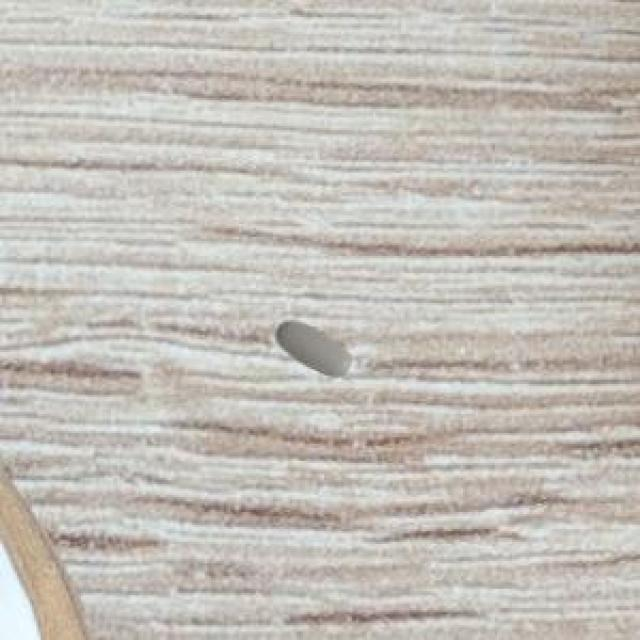Neozep: (265, 305, 368, 386)
